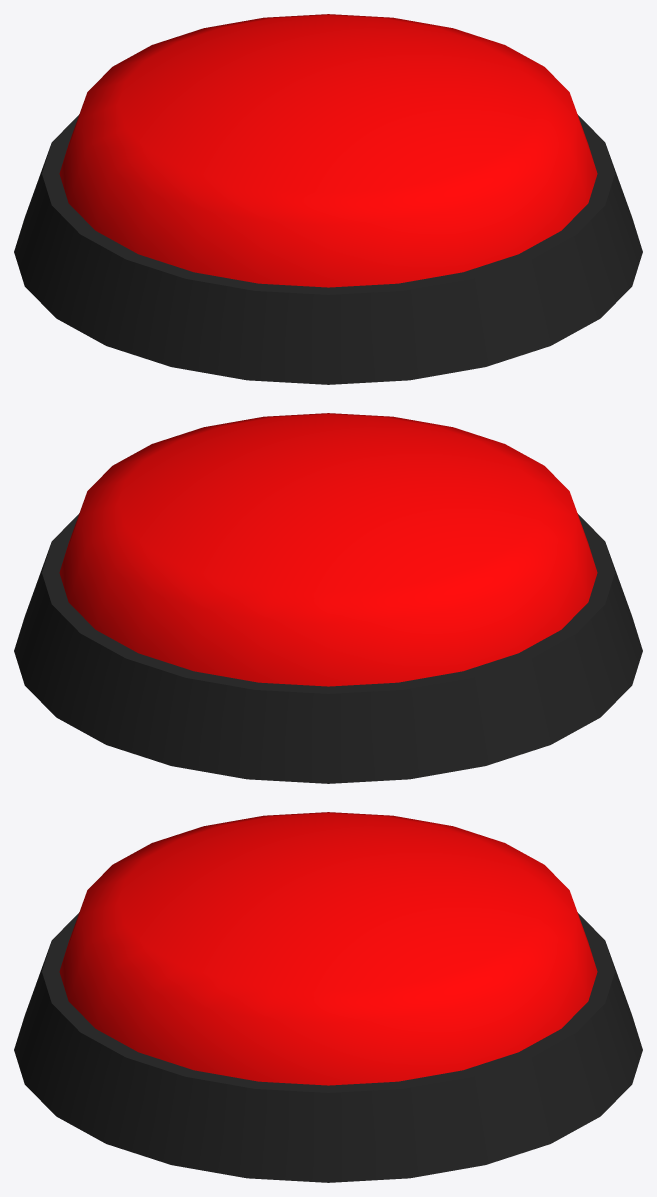
3 views of the same model, one above another, from view 1: azimuth 30°, elevation 25°; view 2: azimuth 150°, elevation 25°; view 3: azimuth 270°, elevation 25° (orthographic).
Parts seen in each view (by area): view 1: SketchUp (×2); view 2: SketchUp (×2); view 3: SketchUp (×2).
Part boxes in pixels (x1,y1,x2,y2): SketchUp (×2): (14,14,642,384); SketchUp (×2): (14,413,642,783); SketchUp (×2): (14,812,642,1182).
Bounding box in the file's own units: 4.22 × 4.22 × 1.35.
